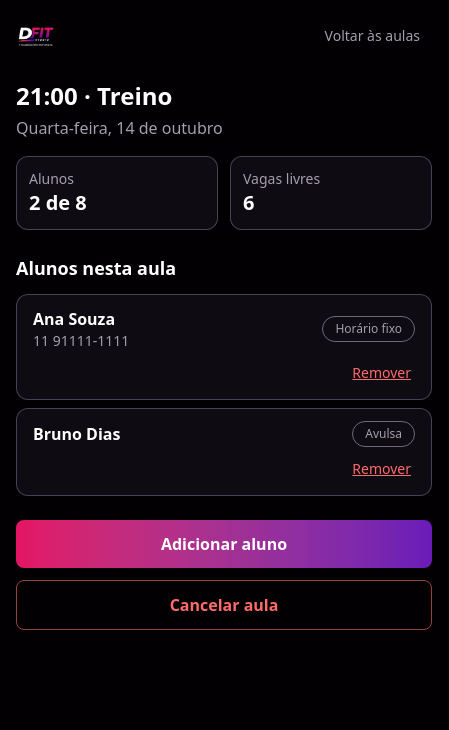
class detail for staff › actions › adds a student who is not in the class yet
Step 1. Click the button "Adicionar aluno" → (224, 544), box [16,520,432,568]
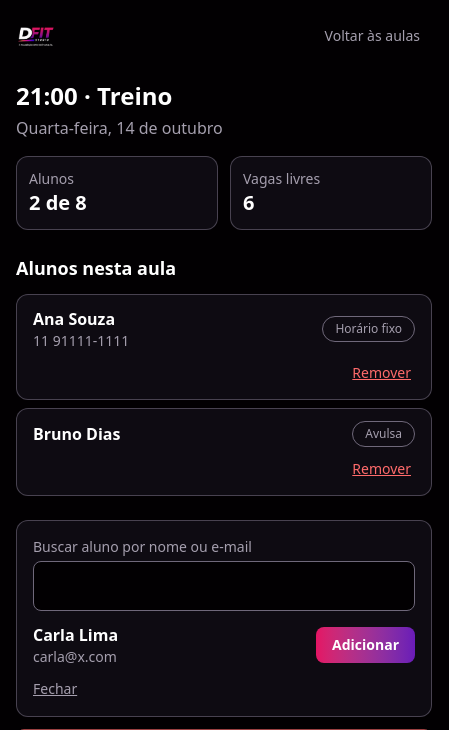
Step 2. Click the button with aria-label "Adicionar Carla Lima" → (366, 645), box [316,627,415,663]
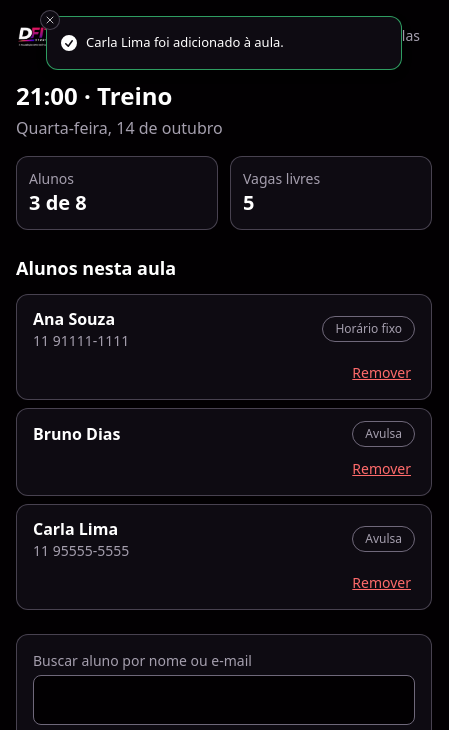
Result: the text "3 de 8" is shown at [29,189,87,216]
